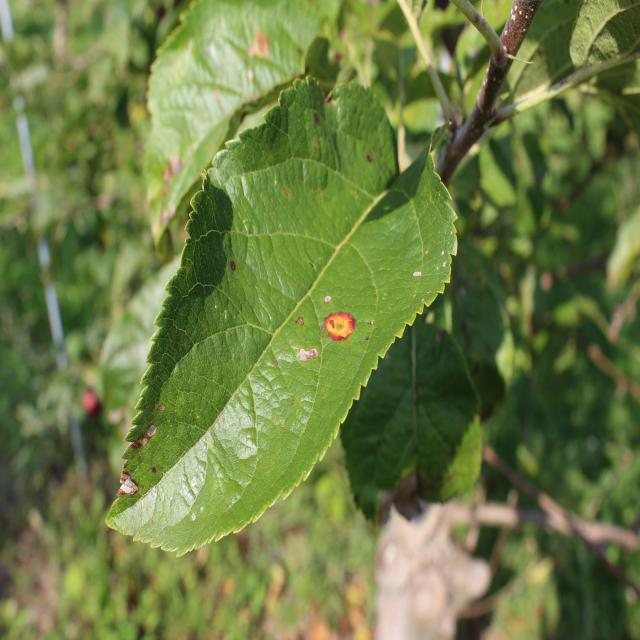rust: (104, 75, 459, 559)
